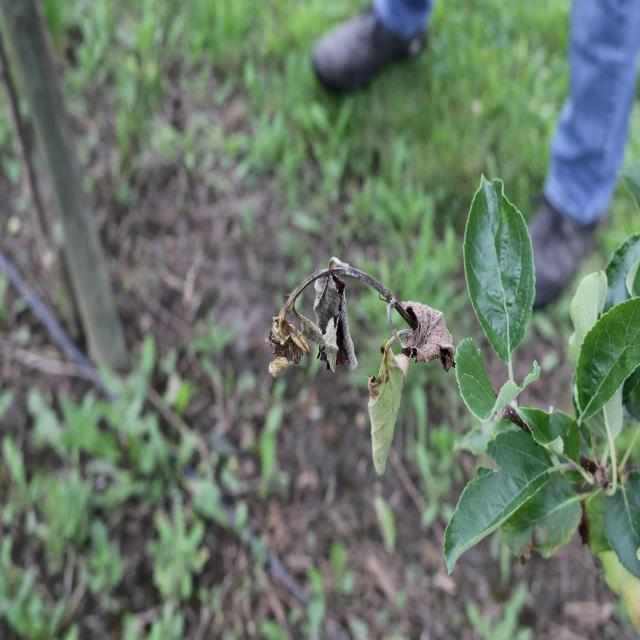-FireBlight-: (239, 238, 453, 384)
